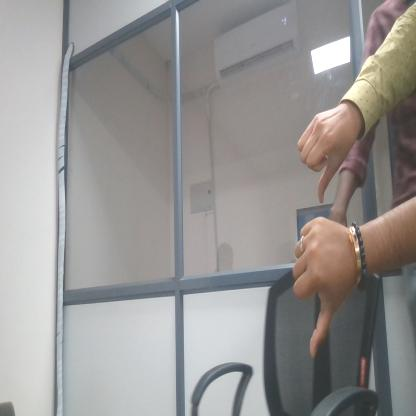Thumbs Down: (293, 212, 347, 362), (295, 103, 347, 206)
